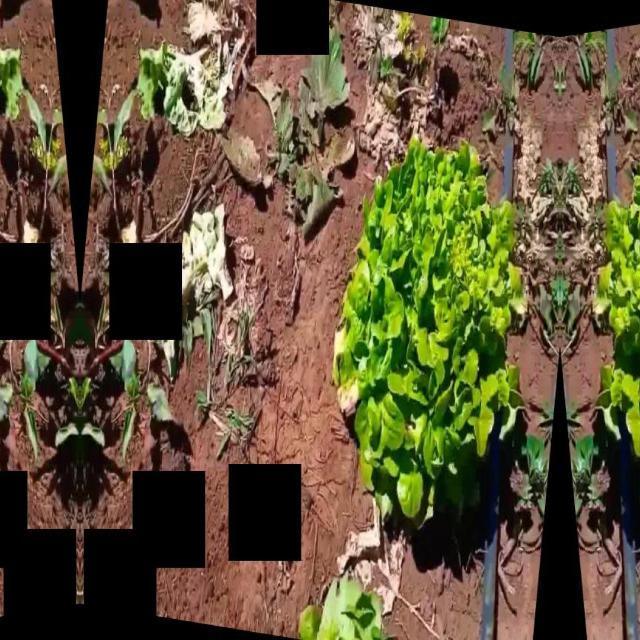healthy: (330, 133, 522, 531), (597, 133, 640, 531)
